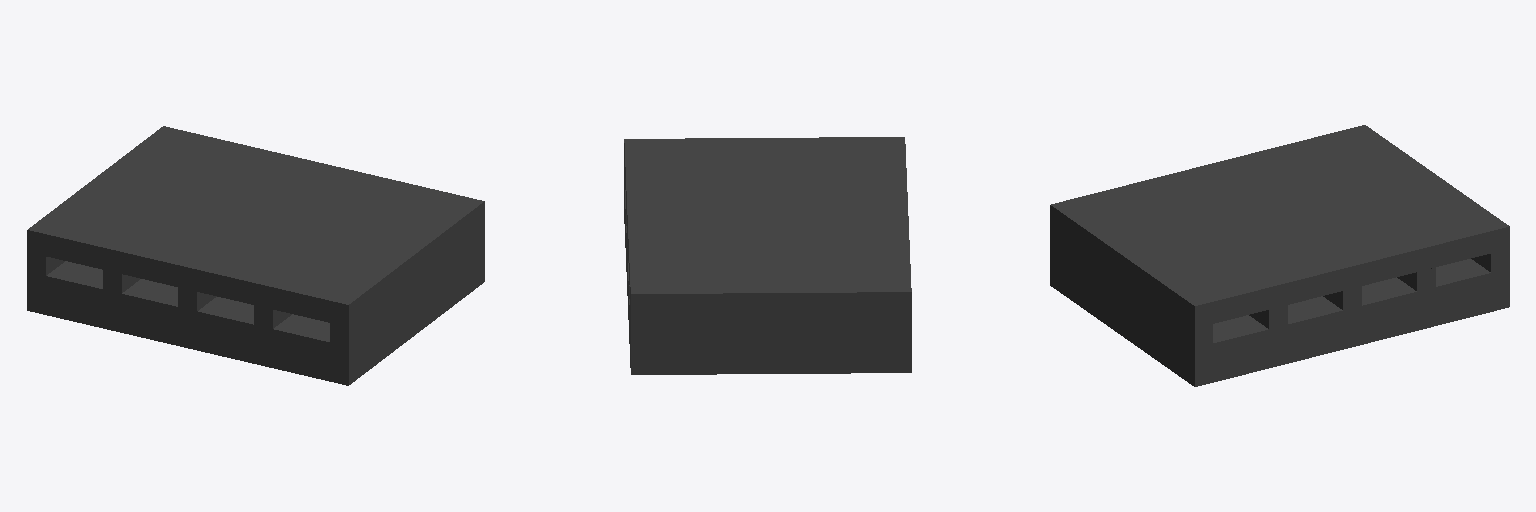
File: footNew.obj
The picture shows the model from 3 angles: view 1: azimuth 30°, elevation 25°; view 2: azimuth 150°, elevation 25°; view 3: azimuth 270°, elevation 25°; orthographic projection.
Visible parts, largest first — view 1: Frame_Foot1; view 2: Frame_Foot1; view 3: Frame_Foot1.
Part boxes in pixels (x1,y1,x2,y2): Frame_Foot1: (27, 126, 484, 385); Frame_Foot1: (624, 137, 911, 374); Frame_Foot1: (1050, 125, 1509, 386).
Size of the model in its own units: 3.79 by 0.7874 by 4.05.